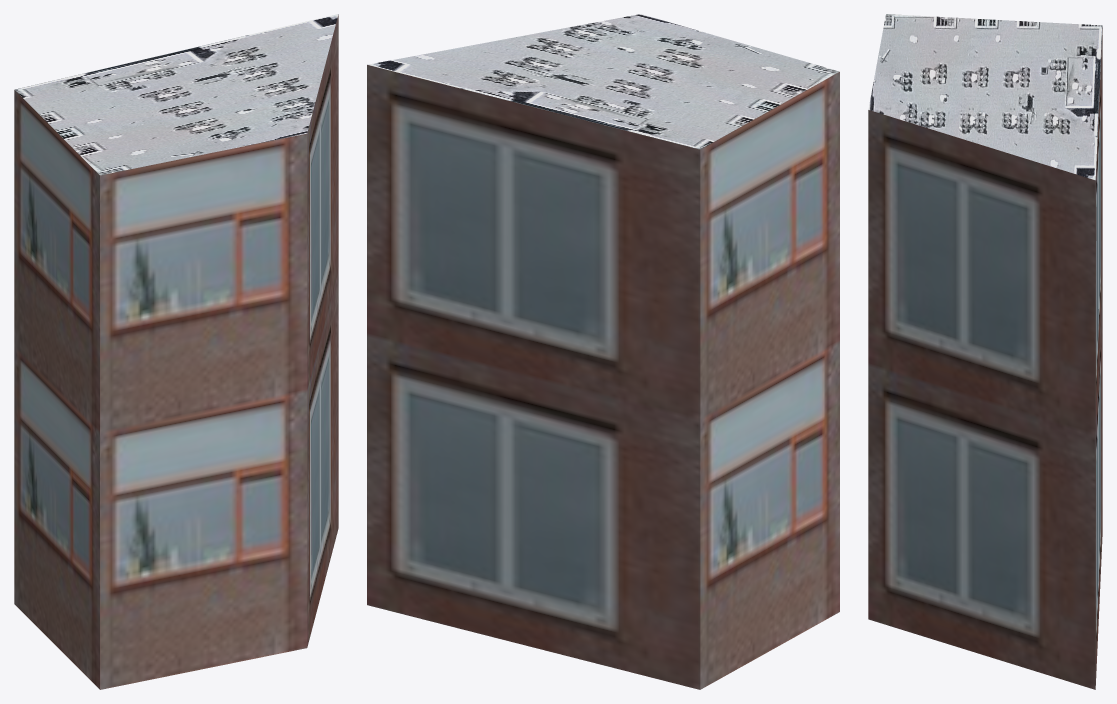
Rendered from ResTex__5306.fbx.
3 views of the same model, side by side, from view 1: azimuth 30°, elevation 25°; view 2: azimuth 150°, elevation 25°; view 3: azimuth 270°, elevation 25° (orthographic). The views are drawn at different scales.
Visible parts, largest first — view 1: CityEngineMaterial_19_m, CityEngineMaterial_15_m; view 2: CityEngineMaterial_19_m, CityEngineMaterial_15_m; view 3: CityEngineMaterial_19_m, CityEngineMaterial_15_m.
Part boxes in pixels (x1,y1,x2,y2): CityEngineMaterial_19_m: (14, 14, 338, 689); CityEngineMaterial_15_m: (15, 14, 338, 175); CityEngineMaterial_19_m: (367, 65, 839, 689); CityEngineMaterial_15_m: (367, 14, 839, 149); CityEngineMaterial_19_m: (868, 27, 1102, 689); CityEngineMaterial_15_m: (868, 14, 1102, 180).
Size of the model in its own units: 4.2 by 6 by 2.5.
2 materials, 2 textured.
